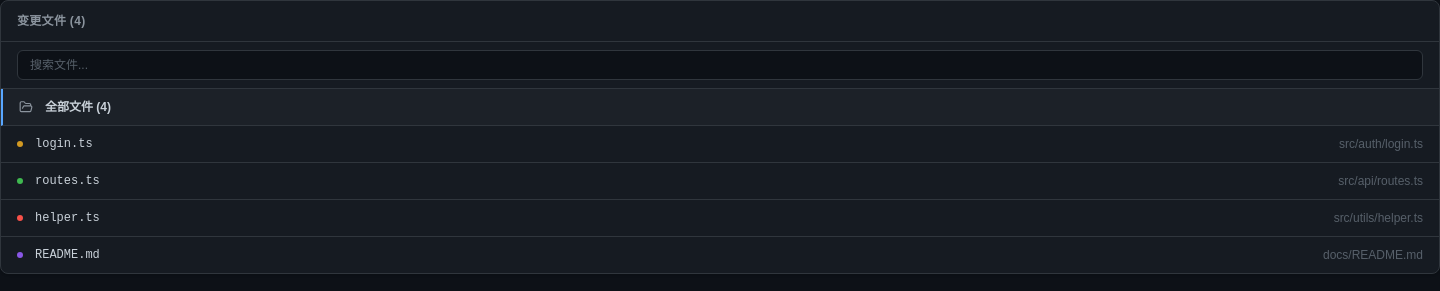
Scenario: FileTree › 搜索无结果时显示提示
In the field with placeholder "搜索文件...": (720, 65) [17,50,1423,80], type "zzz"
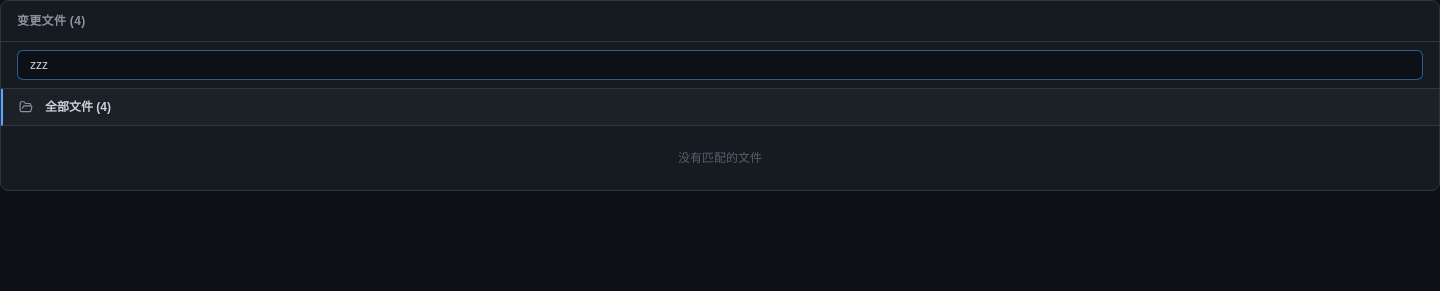
Now the list item "没有匹配的文件" is shown, box [678,151,762,165]
